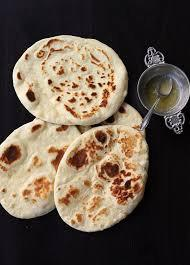Naan: (3, 30, 149, 232)
